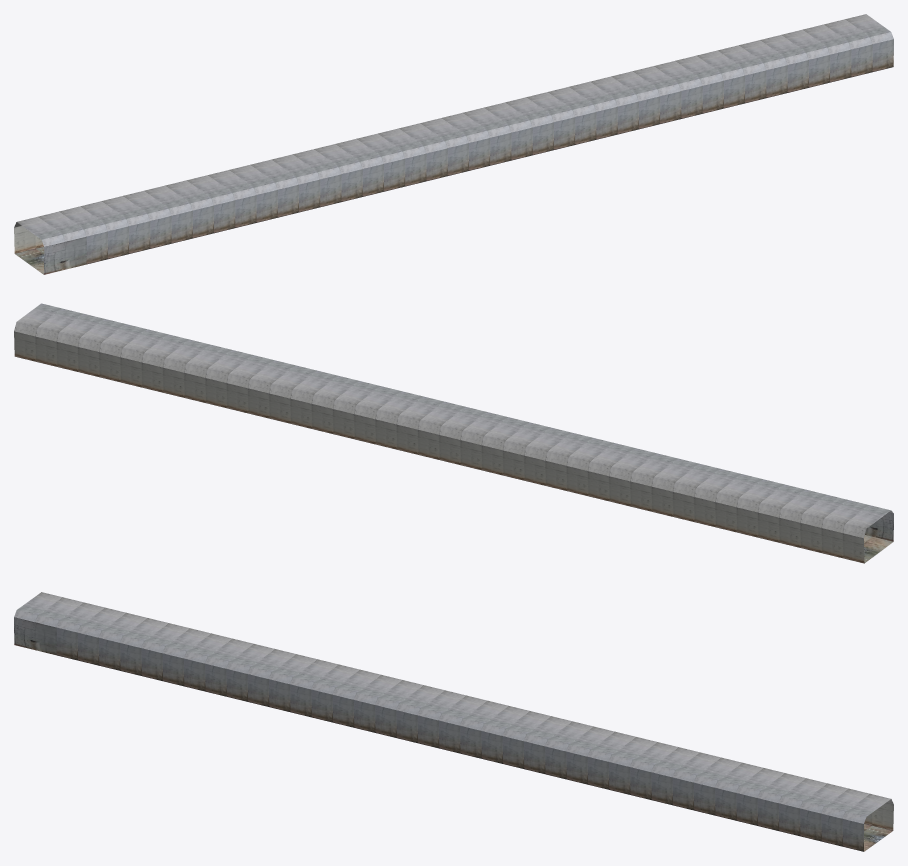
The model's file is Our method (texture).obj.
3 renders of one model, top to bottom at view 1: azimuth 30°, elevation 25°; view 2: azimuth 150°, elevation 25°; view 3: azimuth 330°, elevation 25°, orthographic.
Visible parts, largest first — view 1: 113, 137, 179, 5, 35, 59, 167, 191, 203, 227, 233, 11 (+68 smaller); view 2: 37, 61, 91, 115, 139, 235, 13, 19, 85, 163, 187, 211 (+68 smaller); view 3: 89, 161, 233, 5, 11, 17, 35, 41, 53, 65, 77, 83 (+68 smaller).
Boxes of the visible parts, x1,y1,x2,y2 form: 113: (426, 148, 447, 181); 137: (511, 127, 532, 160); 179: (660, 91, 681, 123); 5: (44, 242, 65, 274); 35: (150, 216, 171, 248); 59: (235, 195, 256, 227); 167: (617, 101, 638, 134); 191: (702, 81, 723, 113); 203: (745, 70, 766, 103); 227: (830, 49, 851, 82); 233: (851, 44, 872, 77); 11: (65, 236, 86, 269); 37: (715, 502, 736, 532); 61: (630, 481, 651, 511); 91: (524, 455, 545, 485); 115: (439, 435, 460, 465); 139: (354, 414, 375, 444); 235: (14, 331, 35, 361); 13: (800, 523, 821, 552); 19: (779, 517, 800, 547); 85: (545, 461, 566, 490); 163: (269, 393, 290, 423); 187: (184, 373, 205, 402); 211: (99, 352, 120, 382); 89: (311, 689, 332, 722); 161: (566, 751, 587, 784); 233: (821, 813, 842, 846); 5: (14, 617, 35, 650); 11: (35, 622, 56, 655); 17: (56, 627, 77, 660); 35: (120, 643, 141, 675); 41: (141, 648, 162, 681); 53: (184, 658, 205, 691); 65: (226, 669, 247, 701); 77: (269, 679, 290, 711); 83: (290, 684, 311, 717).
Size of the model in its own units: 639 by 24.24 by 39.93.
